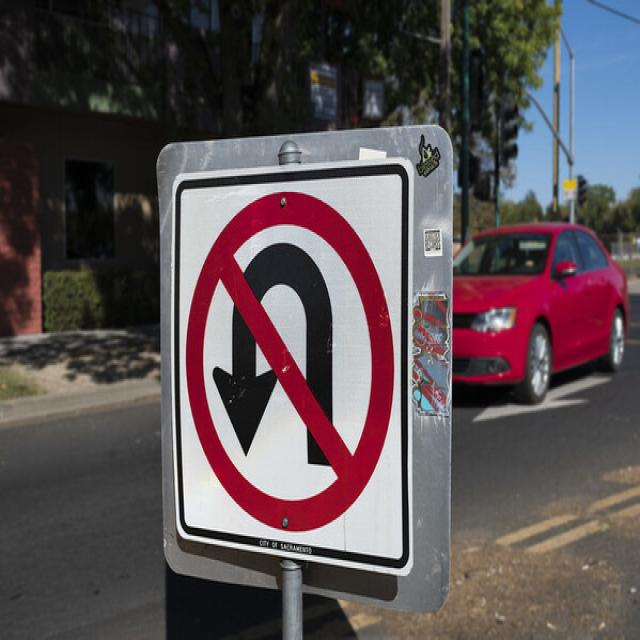no u turn: (180, 183, 398, 533)
